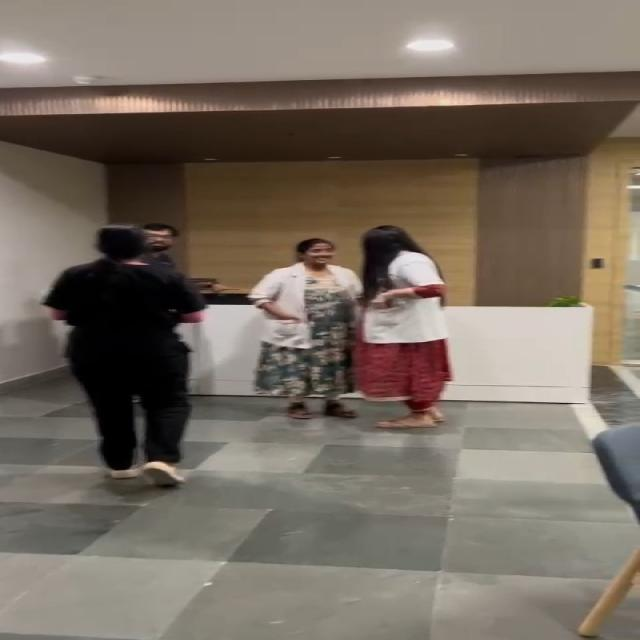floor: (0, 451, 640, 640)
moving_object: (35, 219, 204, 493), (251, 228, 368, 428), (390, 219, 456, 427), (142, 190, 200, 296)
wall: (0, 74, 640, 221)
